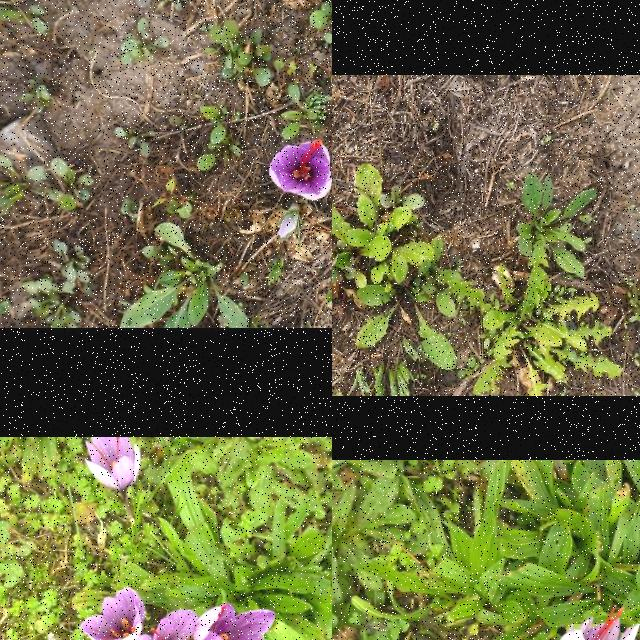flower: (268, 140, 332, 202), (80, 587, 147, 640), (85, 438, 142, 497), (192, 604, 275, 640), (559, 605, 640, 640), (121, 609, 206, 640)
